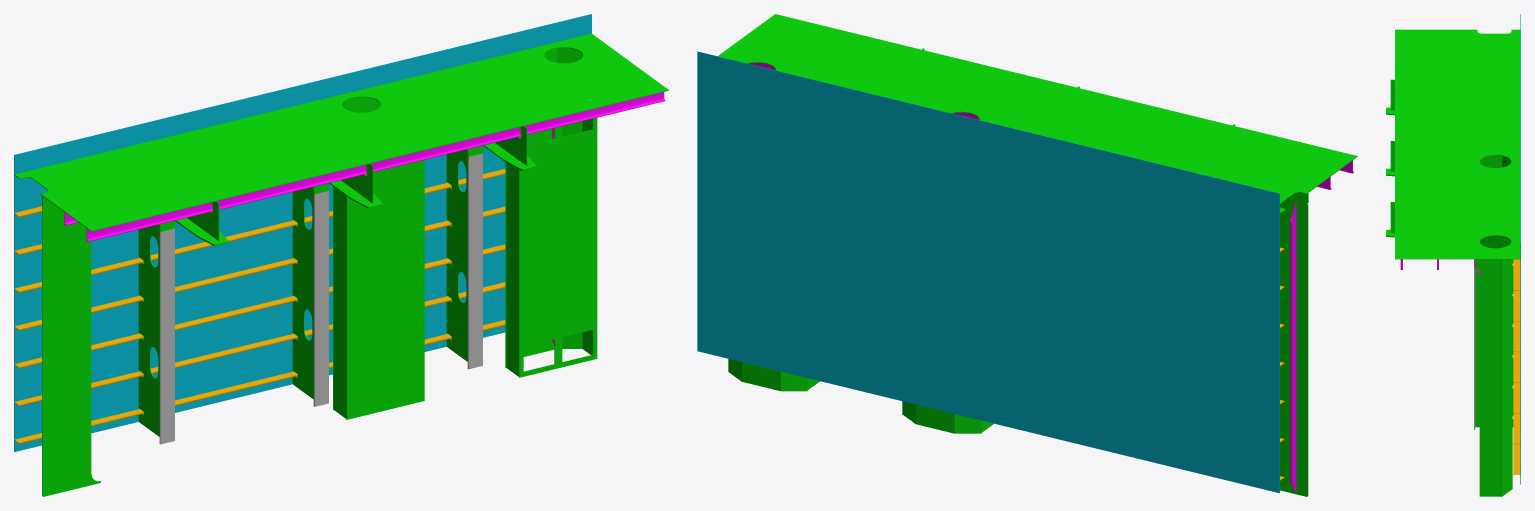
3 renders of one model, left to right at view 1: azimuth 30°, elevation 25°; view 2: azimuth 150°, elevation 25°; view 3: azimuth 270°, elevation 25°, orthographic. The views are drawn at different scales.
Parts seen in each view (by area): view 1: FacetGroup_142, FacetGroup_140, FacetGroup_141, FacetGroup_190, FacetGroup_184, FacetGroup_158, FacetGroup_143, FacetGroup_167, FacetGroup_163, FacetGroup_161, FacetGroup_162, FacetGroup_168 (+10 smaller); view 2: FacetGroup_141, FacetGroup_140, FacetGroup_142, FacetGroup_158, FacetGroup_159, FacetGroup_180, FacetGroup_201; view 3: FacetGroup_142, FacetGroup_206, FacetGroup_202, FacetGroup_161, FacetGroup_141, FacetGroup_162, FacetGroup_216, FacetGroup_133, FacetGroup_134, FacetGroup_137, FacetGroup_135, FacetGroup_136 (+4 smaller).
Boxes of the visible parts, <box> form: FacetGroup_142: <box>14,33,668,231</box>; FacetGroup_140: <box>14,184,505,451</box>; FacetGroup_141: <box>14,14,591,303</box>; FacetGroup_190: <box>346,160,424,419</box>; FacetGroup_184: <box>519,118,597,377</box>; FacetGroup_158: <box>42,204,100,496</box>; FacetGroup_143: <box>86,92,665,241</box>; FacetGroup_167: <box>138,224,159,436</box>; FacetGroup_163: <box>292,187,313,399</box>; FacetGroup_161: <box>446,149,467,361</box>; FacetGroup_162: <box>467,153,482,369</box>; FacetGroup_168: <box>159,228,174,444</box>; FacetGroup_141: <box>697,51,1279,343</box>; FacetGroup_140: <box>697,201,1279,493</box>; FacetGroup_142: <box>718,14,1357,213</box>; FacetGroup_158: <box>1280,198,1308,496</box>; FacetGroup_159: <box>1290,202,1296,492</box>; FacetGroup_180: <box>916,404,954,433</box>; FacetGroup_201: <box>742,362,780,390</box>; FacetGroup_142: <box>1395,29,1520,259</box>; FacetGroup_206: <box>1480,259,1501,496</box>; FacetGroup_202: <box>1501,259,1512,496</box>; FacetGroup_161: <box>1475,259,1513,427</box>; FacetGroup_141: <box>1520,14,1520,363</box>; FacetGroup_162: <box>1474,259,1475,429</box>; FacetGroup_216: <box>1480,235,1511,248</box>; FacetGroup_133: <box>1513,259,1520,291</box>; FacetGroup_134: <box>1513,290,1520,321</box>; FacetGroup_137: <box>1513,382,1520,413</box>; FacetGroup_135: <box>1513,321,1520,352</box>; FacetGroup_136: <box>1513,352,1520,383</box>.
Bounding box in the file's own units: 12 × 6.39 × 2.99.
